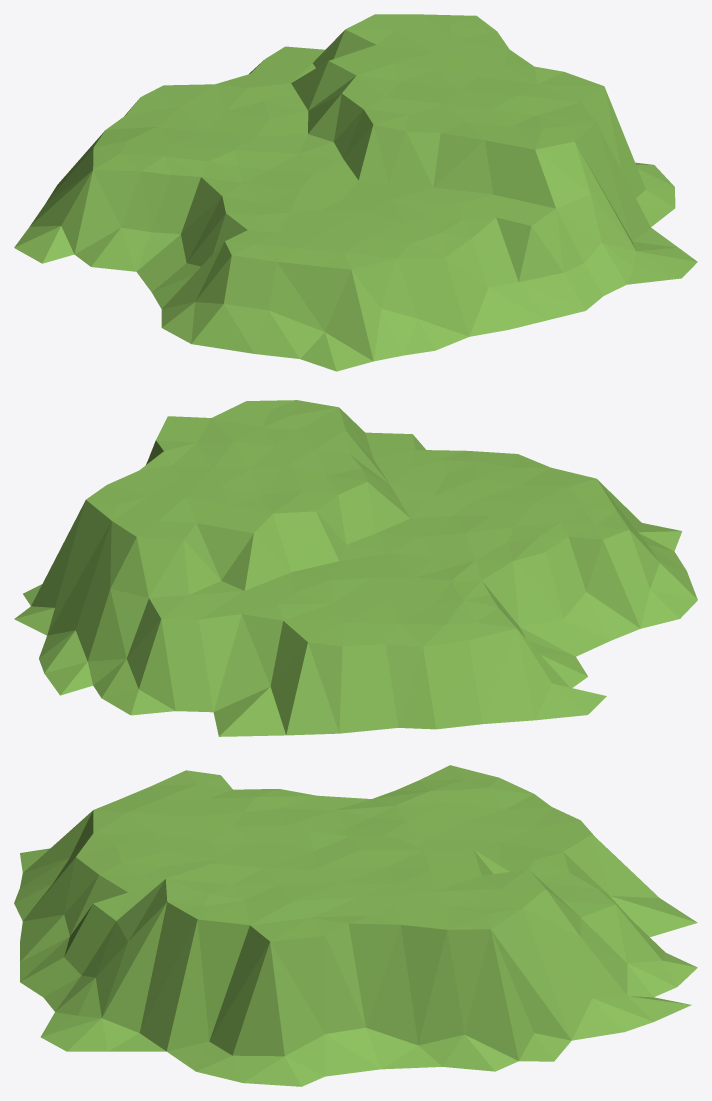
File: MT_Mountain_M_b_21.fbx
3 views of the same model, one above another, from view 1: azimuth 30°, elevation 25°; view 2: azimuth 150°, elevation 25°; view 3: azimuth 270°, elevation 25° (orthographic). The views are drawn at different scales.
Visible parts, largest first — view 1: MT_Mountain_M_b_21; view 2: MT_Mountain_M_b_21; view 3: MT_Mountain_M_b_21.
Boxes of the visible parts, x1,y1,x2,y2 form: MT_Mountain_M_b_21: [14, 14, 697, 371]; MT_Mountain_M_b_21: [14, 400, 697, 736]; MT_Mountain_M_b_21: [14, 765, 697, 1086].
Size of the model in its own units: 4663 by 844 by 4603.
